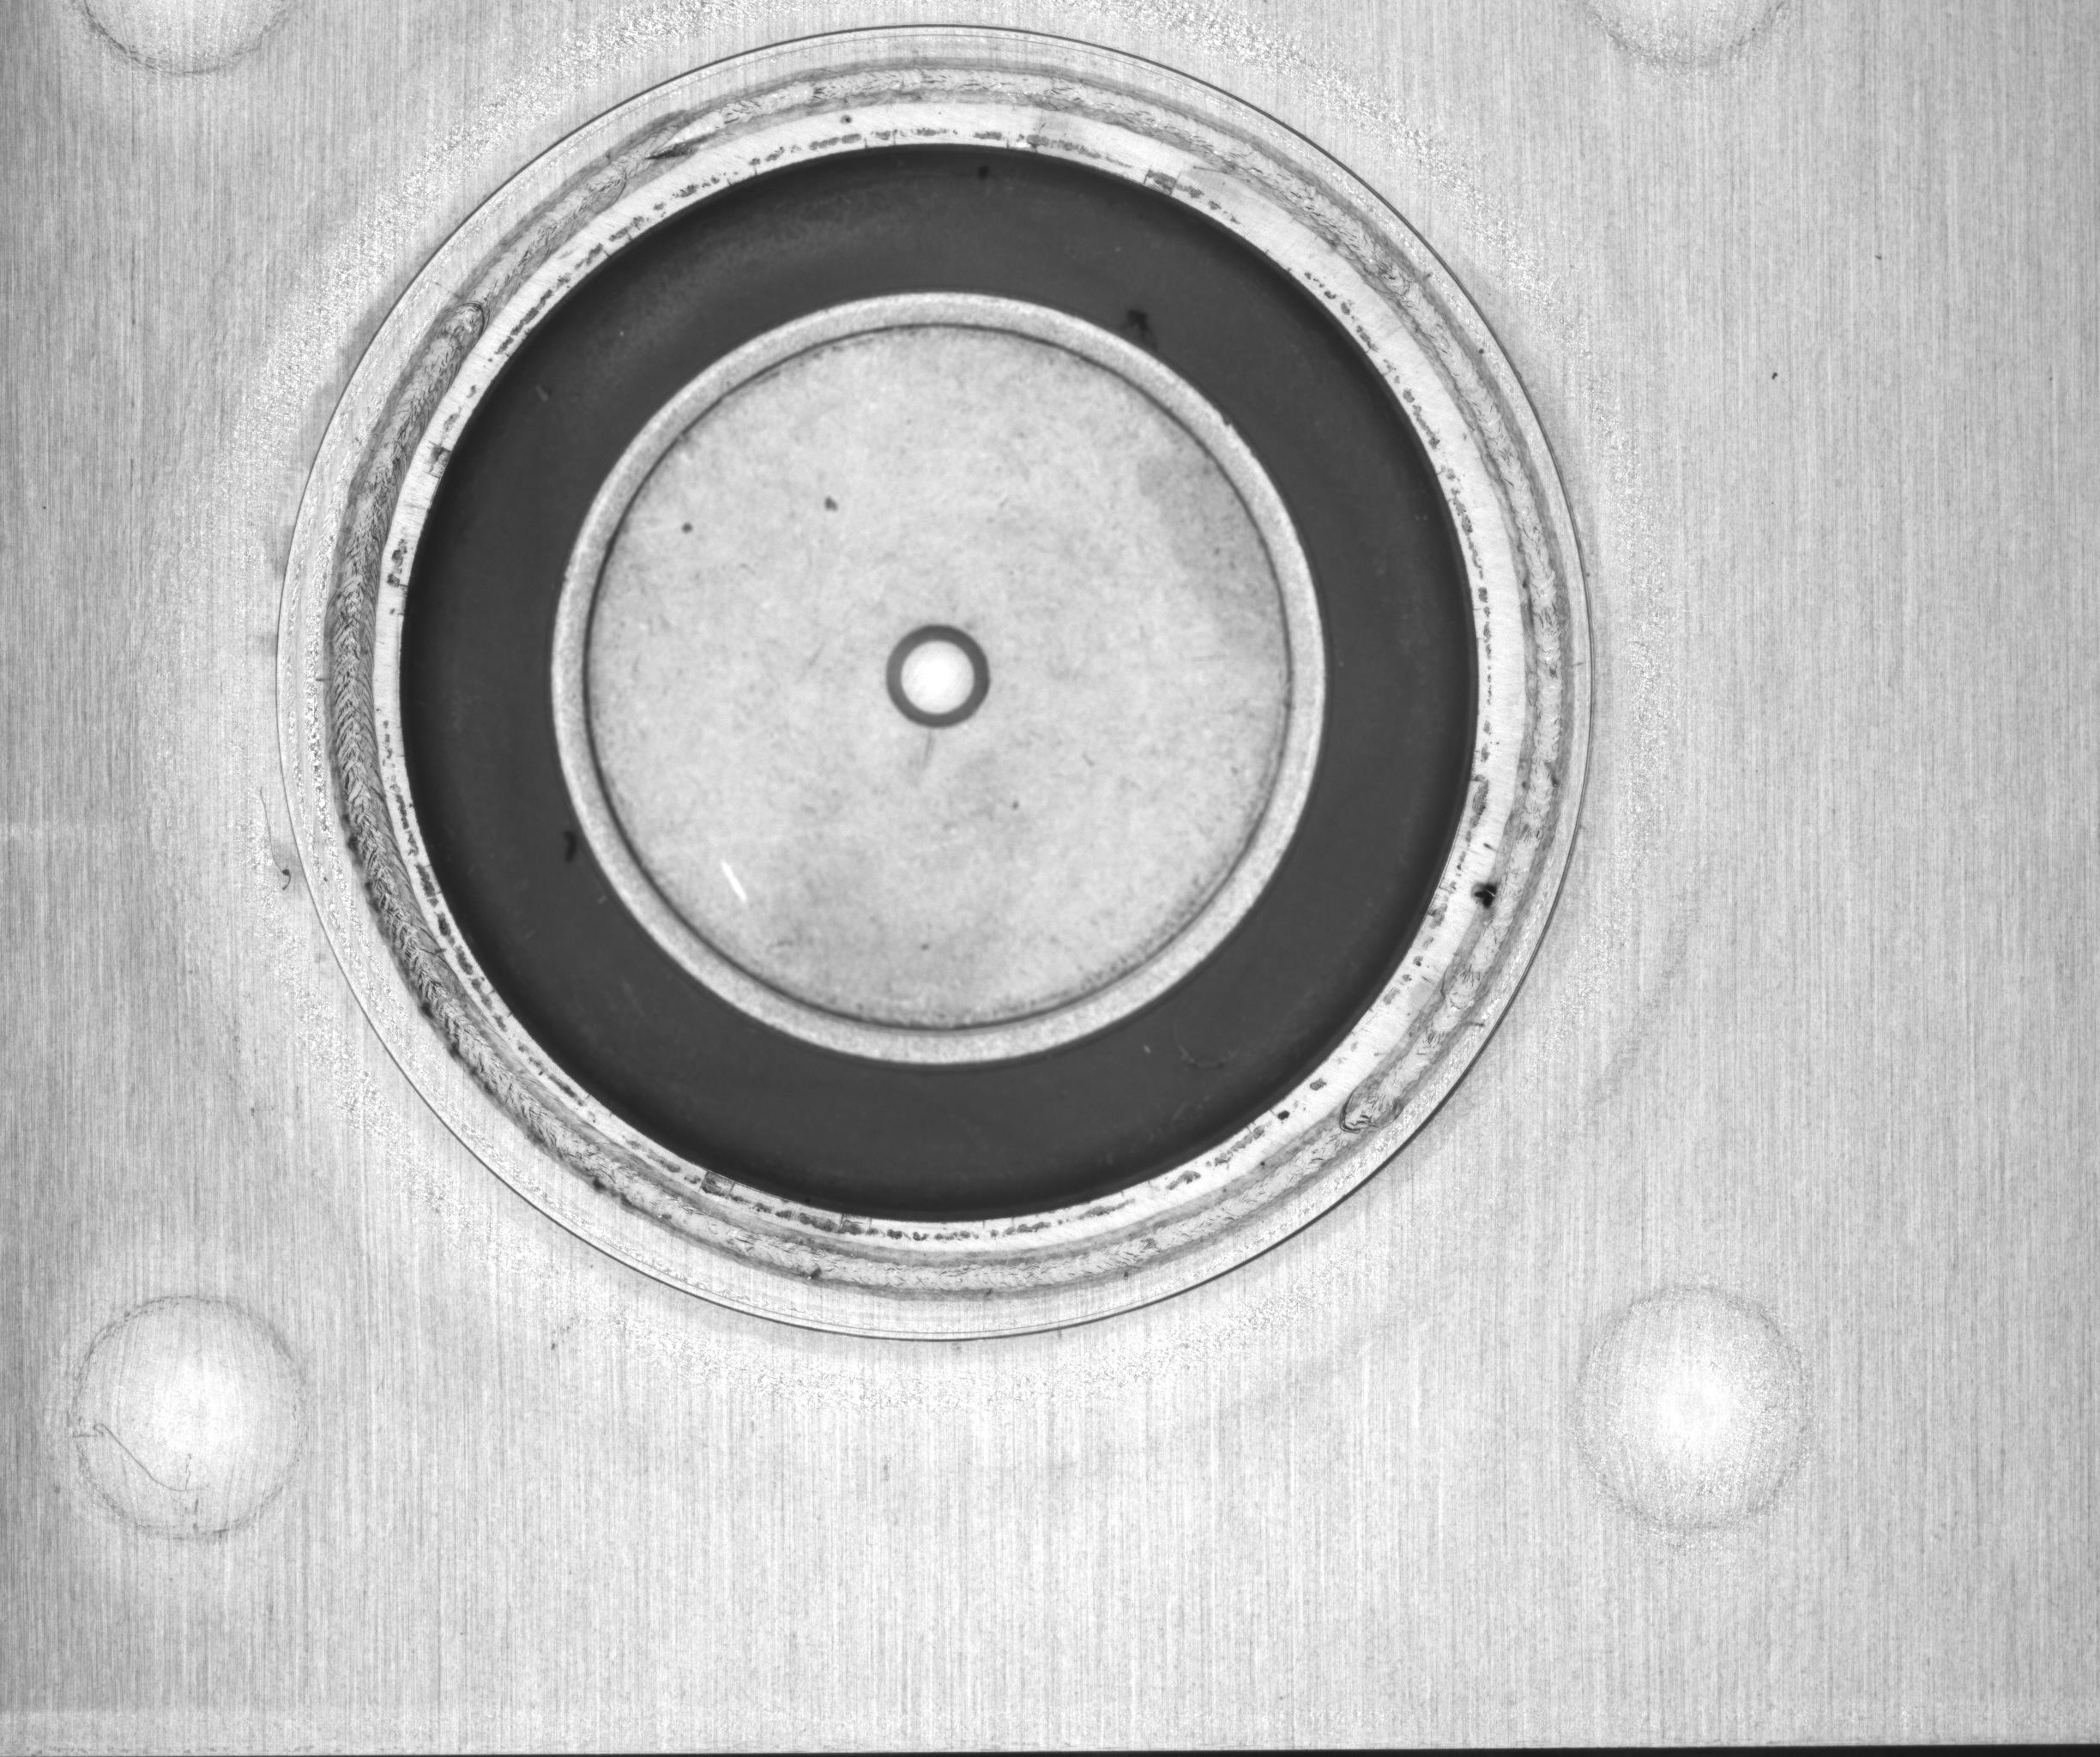normal: (263, 23, 1617, 1359)
